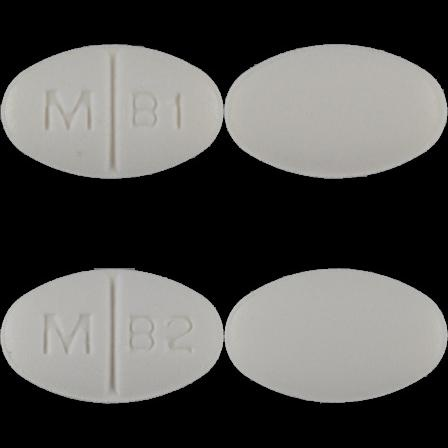60429-291: (0, 0, 224, 224)
